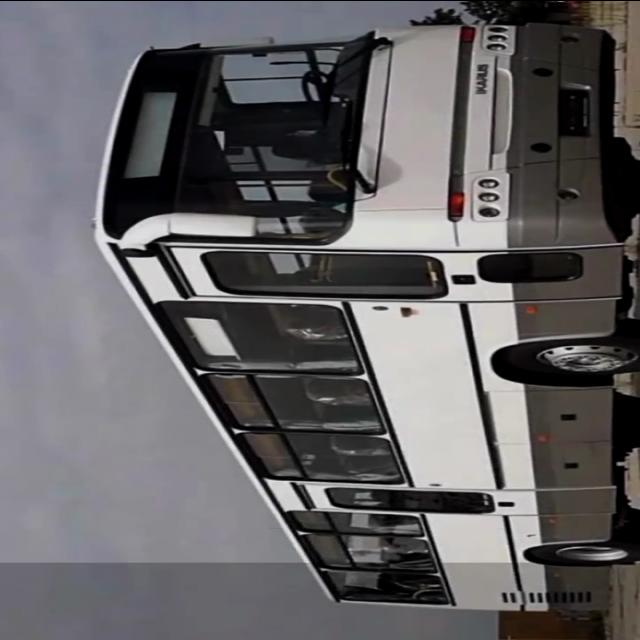bus: (91, 19, 640, 613)
